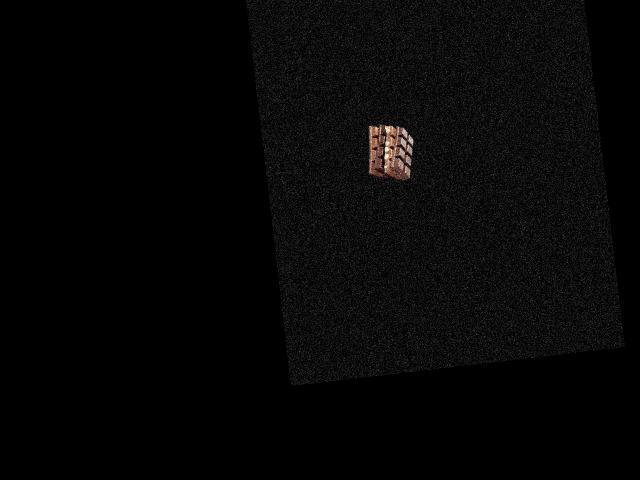chocolate: (361, 121, 417, 180)
